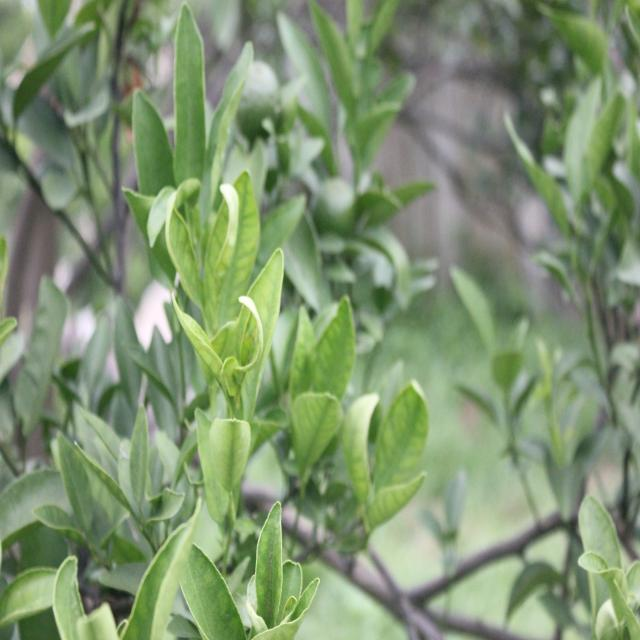greening: (209, 176, 258, 309), (377, 378, 432, 479), (307, 309, 358, 393), (294, 386, 334, 474), (365, 476, 425, 531), (343, 393, 372, 492), (256, 256, 286, 329), (213, 417, 247, 475)
